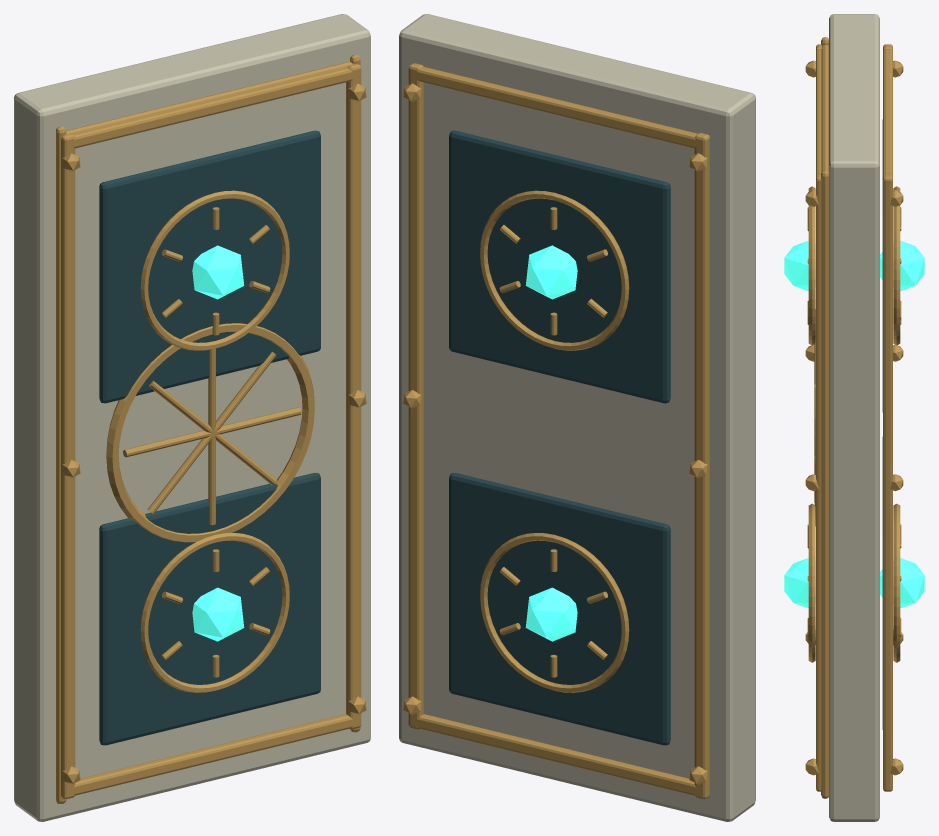
File: door_leaf.fbx
The picture shows the model from 3 angles, left to right: view 1: azimuth 30°, elevation 25°; view 2: azimuth 150°, elevation 25°; view 3: azimuth 270°, elevation 25°; orthographic projection. The views are drawn at different scales.
Parts seen in each view (by area): view 1: Carved door, door_leaf_Midnight teal.001, door_leaf_Aged brass.001, door_leaf_Aged brass, door_leaf_Turquoise inlay.001; view 2: Carved door, door_leaf_Midnight teal.001, door_leaf_Aged brass.001, door_leaf_Turquoise inlay.001; view 3: Carved door, door_leaf_Aged brass.001, door_leaf_Aged brass, door_leaf_Turquoise inlay.001, door_leaf_Midnight teal.001.
Part boxes in pixels (x1,y1,x2,y2): Carved door: (14, 14, 370, 821); door_leaf_Midnight teal.001: (99, 130, 320, 745); door_leaf_Aged brass.001: (61, 64, 366, 799); door_leaf_Aged brass: (56, 55, 360, 803); door_leaf_Turquoise inlay.001: (192, 245, 244, 641); Carved door: (399, 14, 755, 821); door_leaf_Midnight teal.001: (449, 130, 670, 745); door_leaf_Aged brass.001: (403, 63, 709, 799); door_leaf_Turquoise inlay.001: (525, 245, 577, 641); Carved door: (829, 14, 879, 821); door_leaf_Aged brass.001: (805, 44, 903, 791); door_leaf_Aged brass: (814, 37, 828, 798); door_leaf_Turquoise inlay.001: (784, 241, 924, 608); door_leaf_Midnight teal.001: (882, 119, 882, 729).
Bounding box in the file's own units: 245 × 500 × 96.32.
